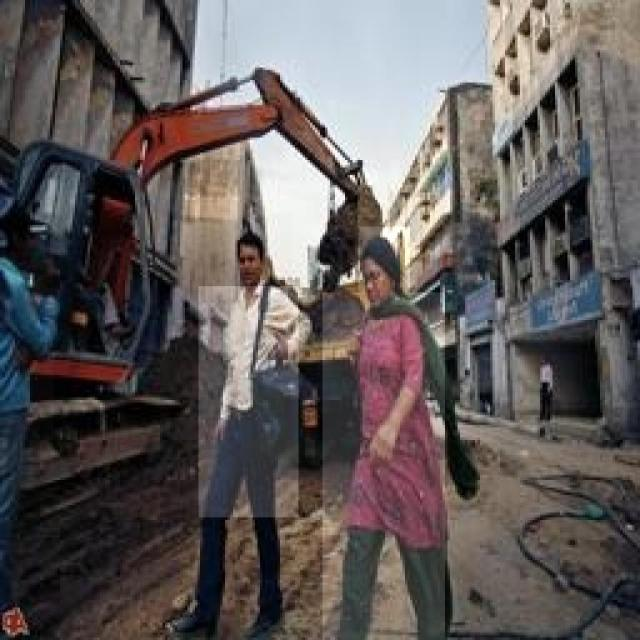Helmet: (323, 292, 445, 640), (198, 286, 298, 518), (0, 252, 54, 474), (202, 213, 292, 290), (358, 226, 410, 316)
